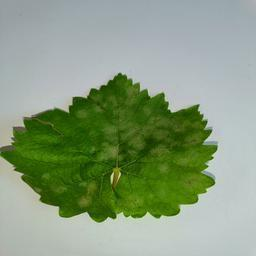Powdery-Mildew: (129, 114, 180, 150), (177, 134, 207, 171), (77, 94, 117, 119), (77, 179, 99, 207), (106, 113, 129, 133), (127, 193, 144, 210), (185, 178, 202, 194), (121, 87, 137, 103), (102, 141, 118, 157)
